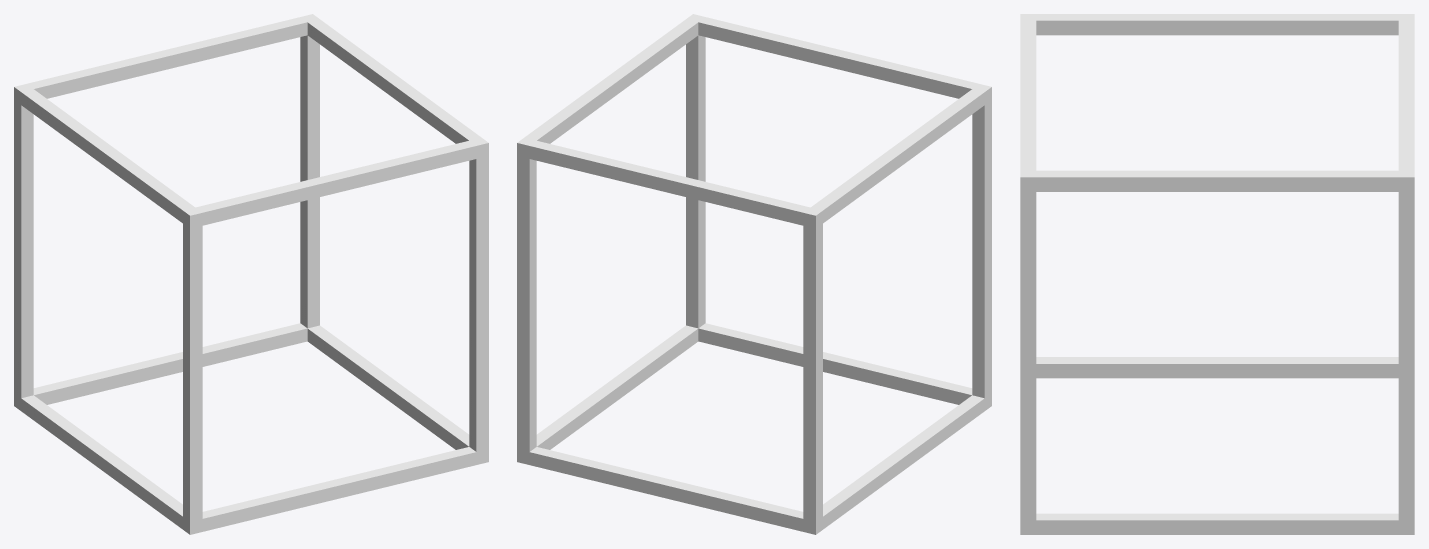
The model's file is LargerCube.gltf.
The picture shows the model from 3 angles, left to right: view 1: azimuth 30°, elevation 25°; view 2: azimuth 150°, elevation 25°; view 3: azimuth 270°, elevation 25°; orthographic projection. The views are drawn at different scales.
Visible parts, largest first — view 1: cube (×12); view 2: cube (×12); view 3: cube (×8).
Boxes of the visible parts, <box> form: cube (×12): <box>14,14,488,534</box>; cube (×12): <box>517,14,991,534</box>; cube (×8): <box>1020,14,1414,534</box>.
Bounding box in the file's own units: 3 × 3.06 × 3.06.
1 material, 1 textured.
